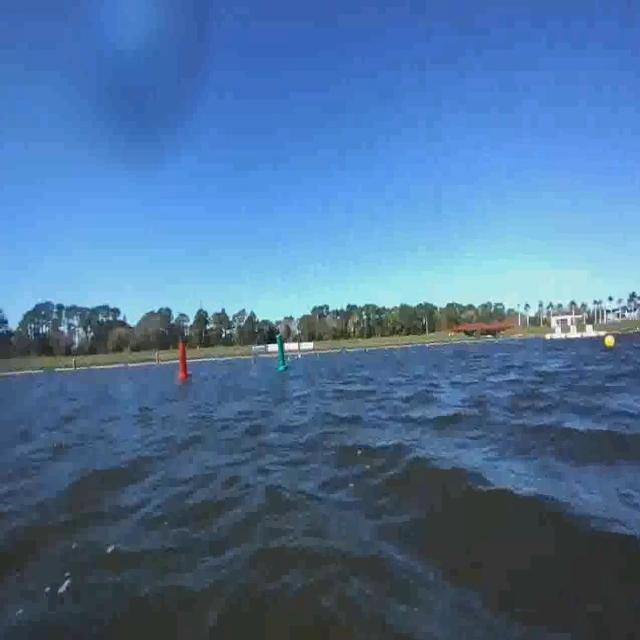green-column-buoy: (267, 326, 291, 378)
red-column-buoy: (176, 337, 192, 392)
